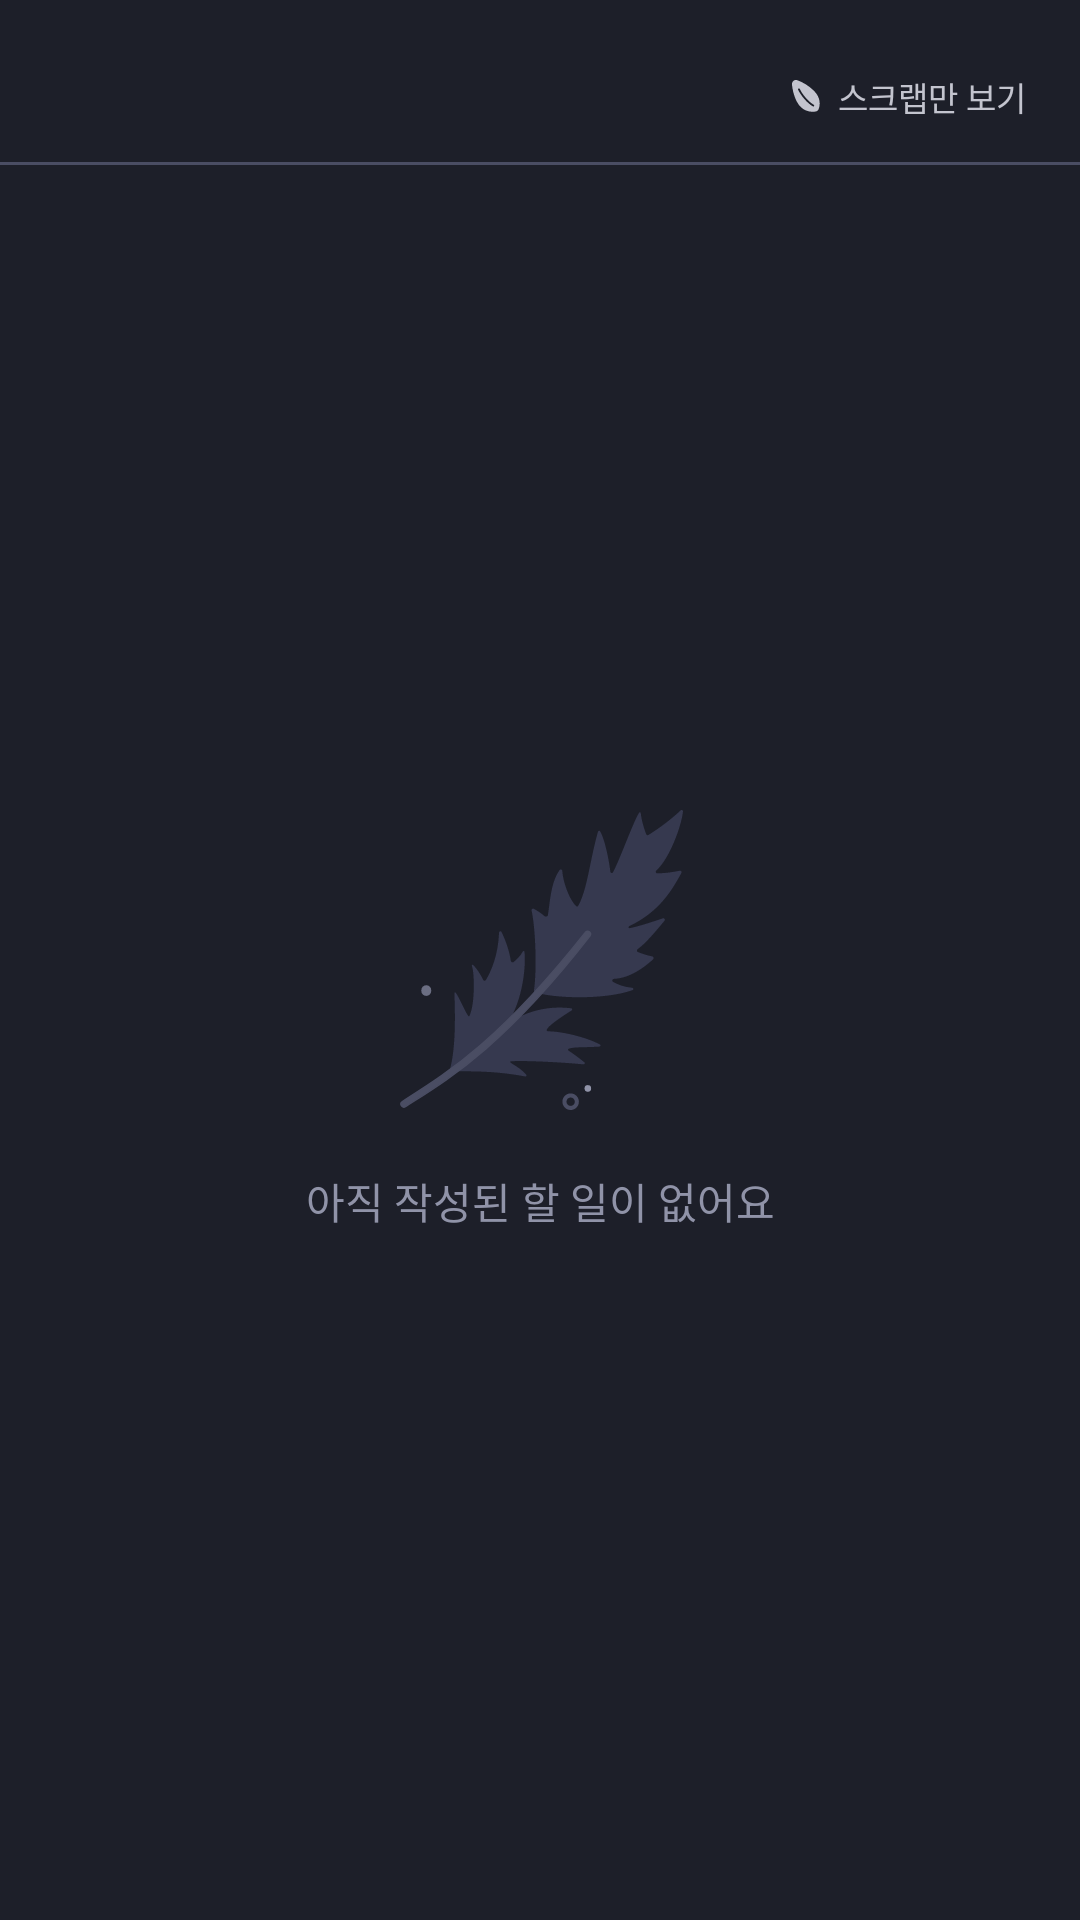

Where icons sit on this 1080 × 1920 app screen, as (x1, y1, x2, y2):
empty insight: (400, 810, 683, 1110)
